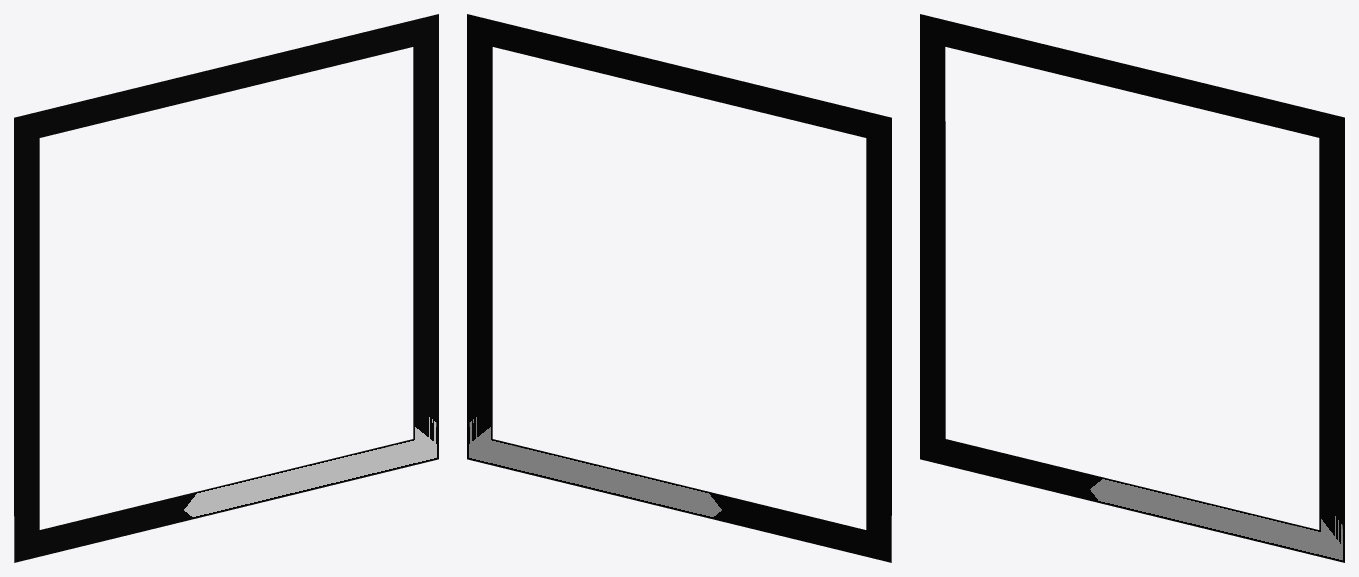
File: ui_activity_kuang_01.FBX
The picture shows the model from 3 angles, left to right: view 1: azimuth 30°, elevation 25°; view 2: azimuth 150°, elevation 25°; view 3: azimuth 330°, elevation 25°; orthographic projection.
Visible parts, largest first — view 1: UI_kuang_01; view 2: UI_kuang_01; view 3: UI_kuang_01.
Boxes of the visible parts, left/top/right/bottom form: UI_kuang_01: left=14, top=14, right=438, bottom=562; UI_kuang_01: left=467, top=14, right=891, bottom=562; UI_kuang_01: left=920, top=14, right=1344, bottom=562.
Bounding box in the file's own units: 250 × 250 × 5.29e-05.
